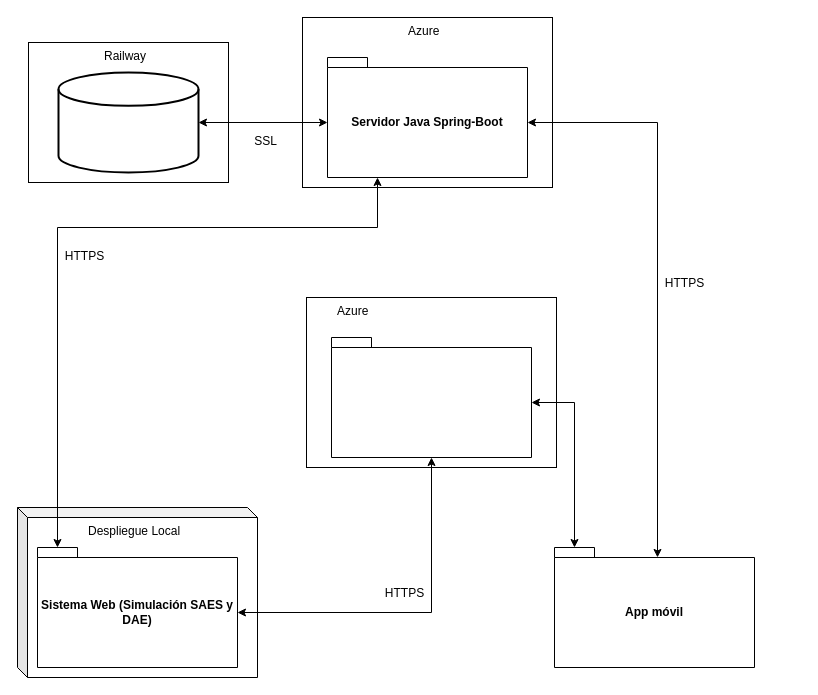
Some shapes in this 818 by 695 pixel diagram are drawn without their labels. The box of each missing label's shape, as (x1, y1, x2, y2) in pixels:
PostgreSQL: (57, 71, 199, 173)
Servidor Red Neuronal: (330, 336, 532, 458)
